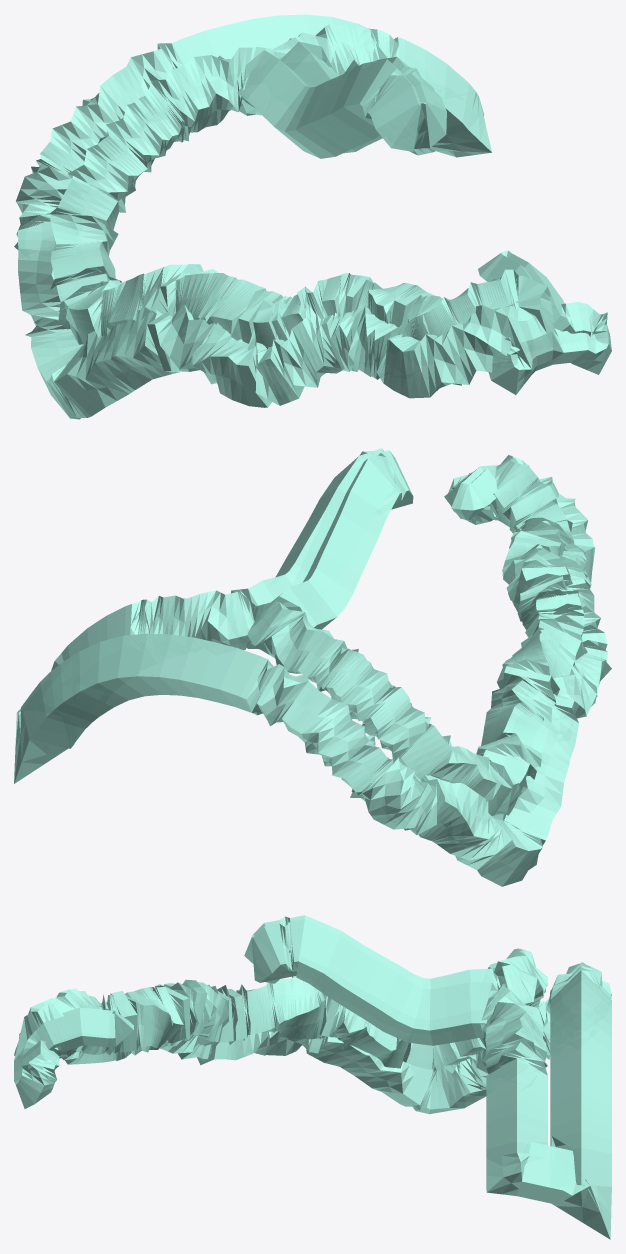
File: asset.glb
3 renders of one model, top to bottom at view 1: azimuth 30°, elevation 25°; view 2: azimuth 150°, elevation 25°; view 3: azimuth 270°, elevation 25°, orthographic. The views are drawn at different scales.
Parts seen in each view (by area): view 1: Layer 02; view 2: Layer 02; view 3: Layer 02.
Part boxes in pixels (x1,y1,x2,y2): Layer 02: (14, 14, 611, 419); Layer 02: (14, 448, 611, 886); Layer 02: (14, 915, 611, 1239).
Bounding box in the file's own units: 117 × 80.55 × 146.
